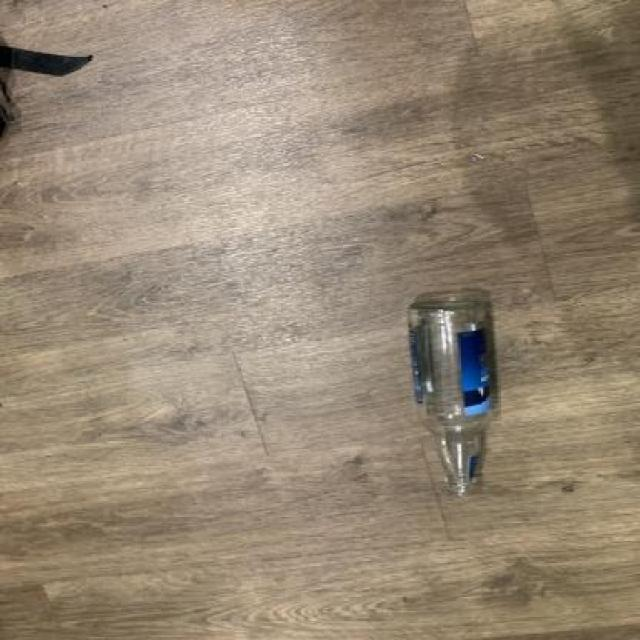trash: (400, 295, 497, 496)
